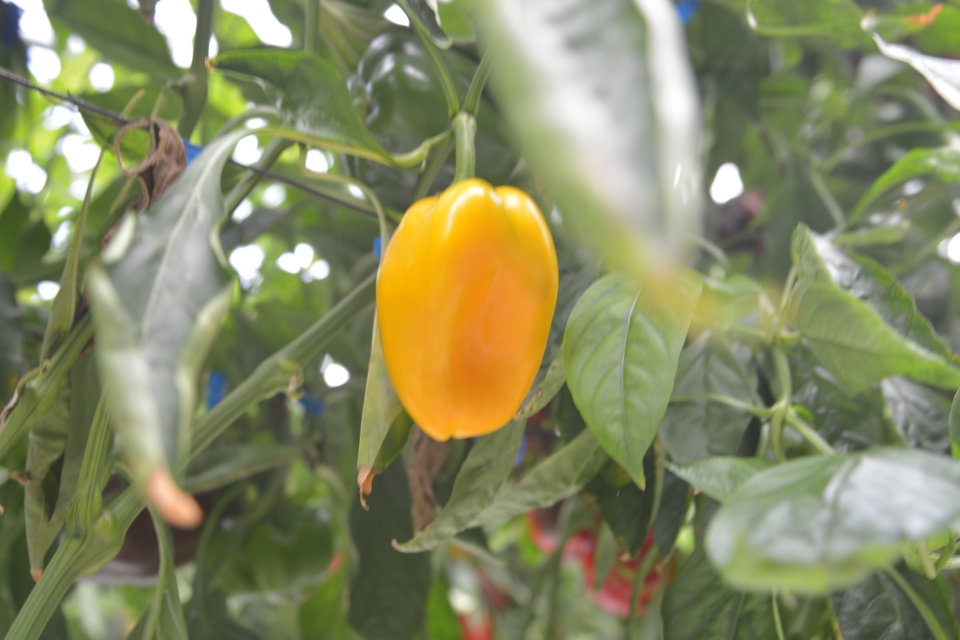fruit: (383, 172, 565, 444), (340, 24, 521, 211), (40, 451, 244, 589), (527, 488, 679, 620)
